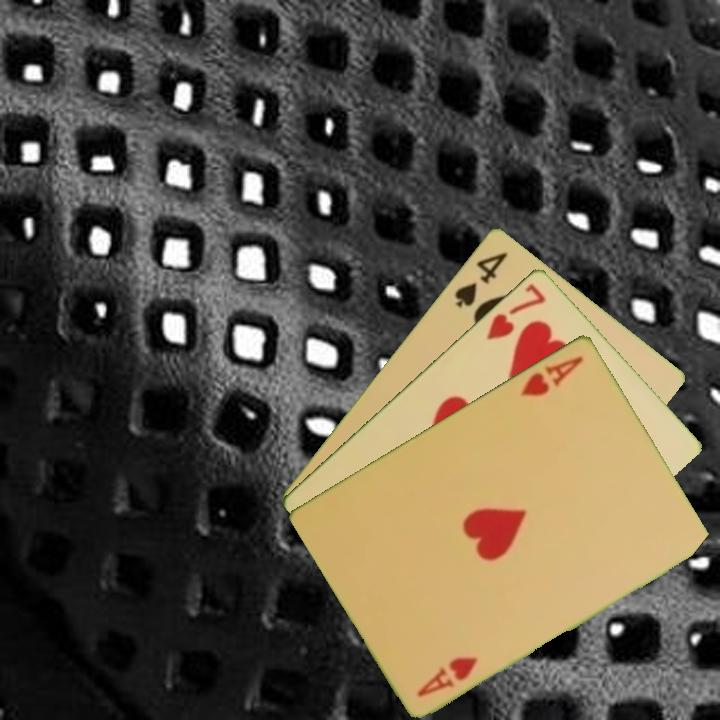4s: (450, 248, 511, 310)
7h: (482, 279, 549, 342)
Ah: (413, 652, 481, 700), (517, 352, 586, 399)
